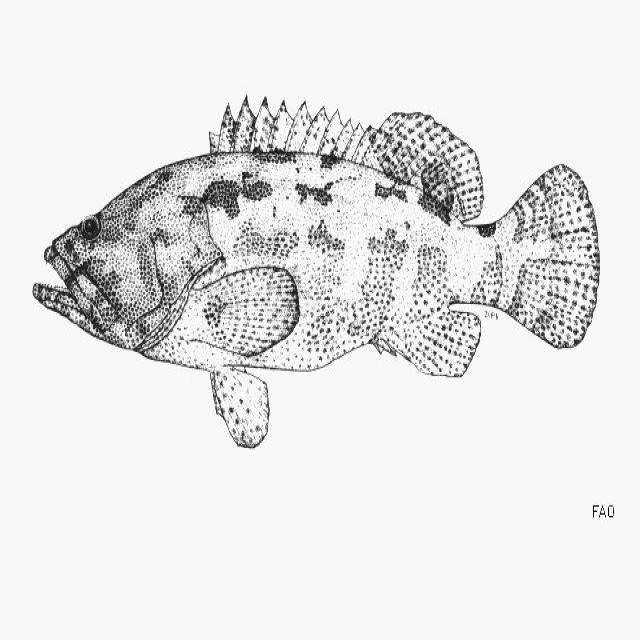ikan: (31, 93, 600, 450)
